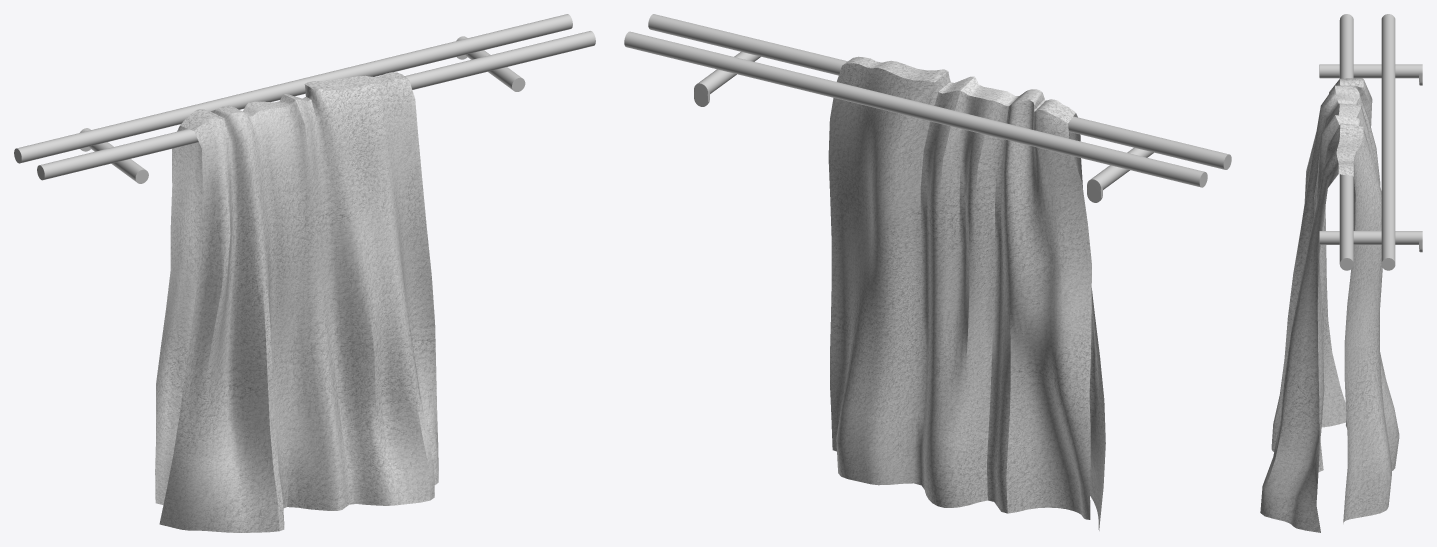
The model's file is towel-rack.glb.
The picture shows the model from 3 angles, left to right: view 1: azimuth 30°, elevation 25°; view 2: azimuth 150°, elevation 25°; view 3: azimuth 270°, elevation 25°; orthographic projection. The views are drawn at different scales.
Visible parts, largest first — view 1: Object_2, Object_3; view 2: Object_2, Object_3; view 3: Object_2, Object_3.
Part boxes in pixels (box(x1,y1,x2,y2)): Object_2: box(155, 72, 438, 532); Object_3: box(14, 14, 595, 183); Object_2: box(828, 56, 1105, 530); Object_3: box(624, 14, 1231, 202); Object_2: box(1260, 78, 1399, 532); Object_3: box(1319, 14, 1422, 270).
Size of the model in its own units: 2.98 by 2.08 by 0.8377.
2 materials, 1 textured.
